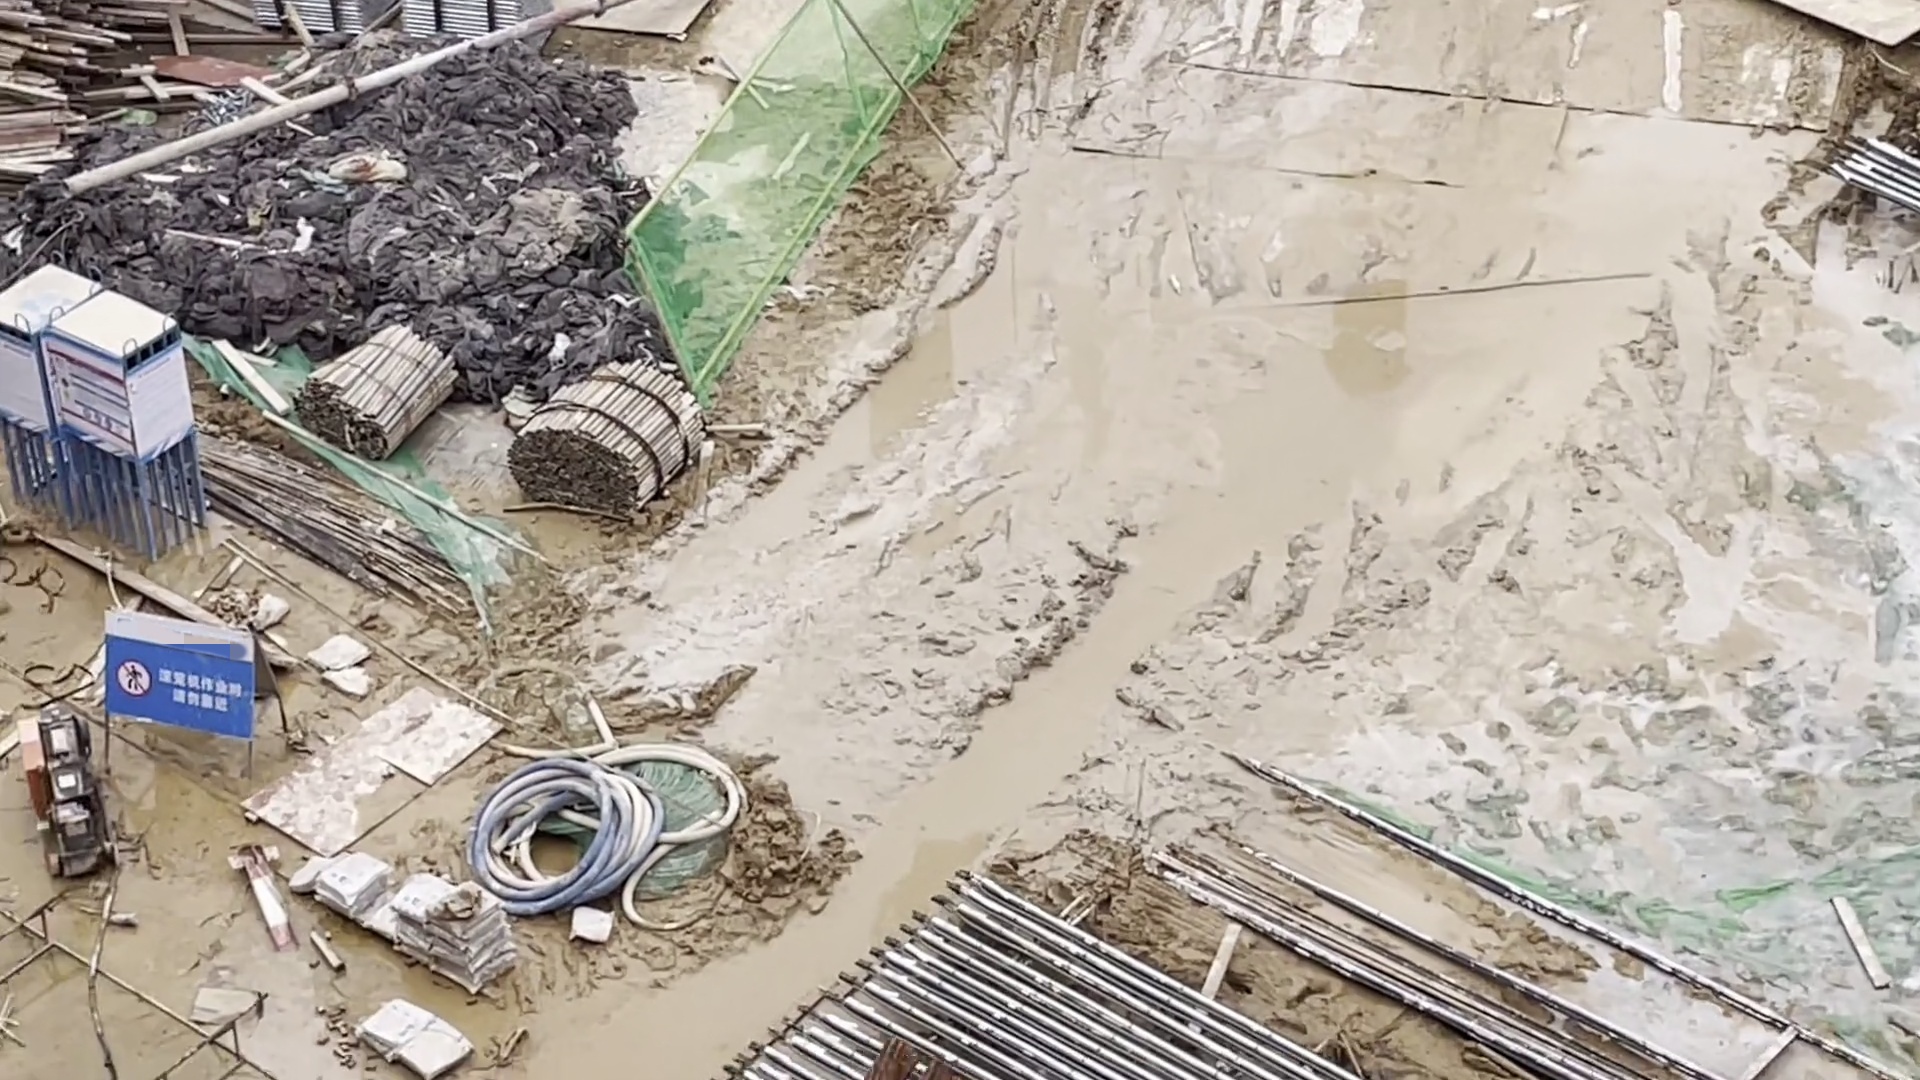slogan: (104, 642, 255, 738)
wood: (500, 360, 708, 522), (285, 324, 463, 465)
